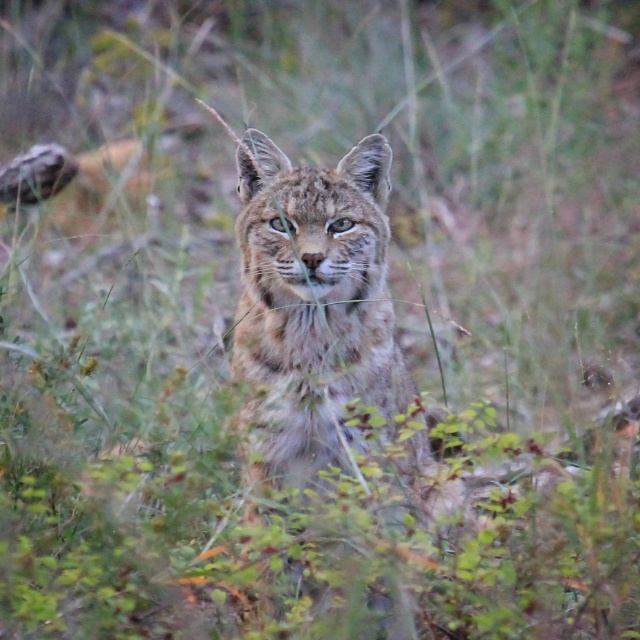Lynx: (232, 122, 470, 639)
